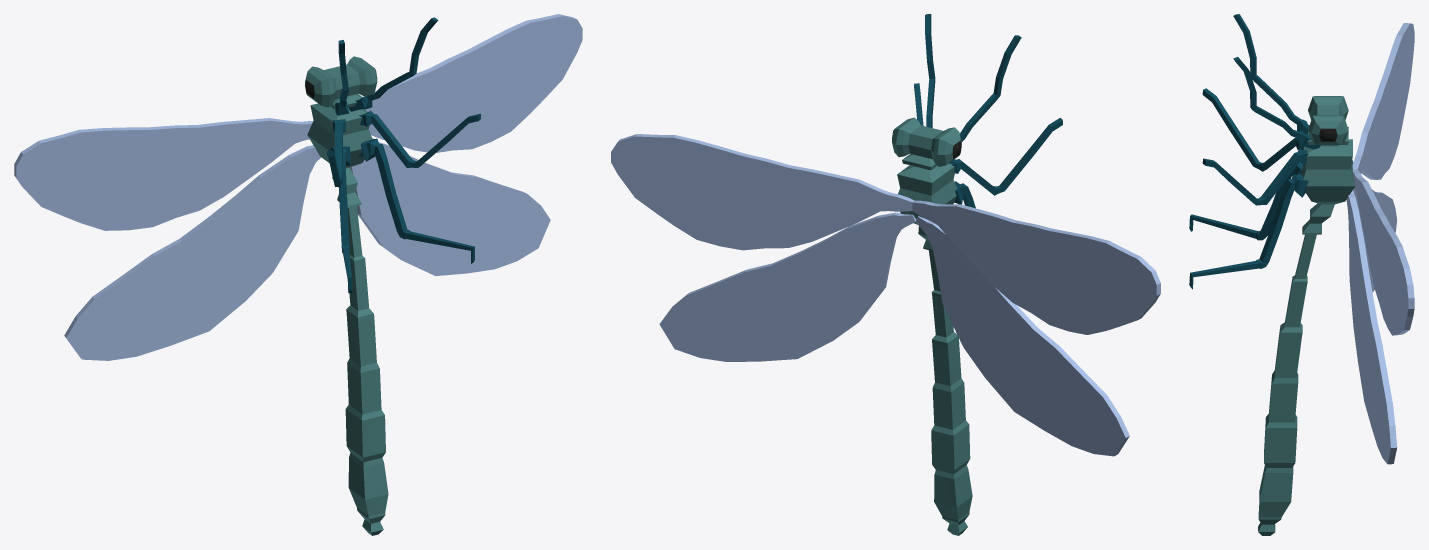
Rendered from Blue_dragonfly.fbx.
The picture shows the model from 3 angles, left to right: view 1: azimuth 30°, elevation 25°; view 2: azimuth 150°, elevation 25°; view 3: azimuth 270°, elevation 25°; orthographic projection. The views are drawn at different scales.
Visible parts, largest first — view 1: Blue_dragonfly; view 2: Blue_dragonfly; view 3: Blue_dragonfly.
Boxes of the visible parts, left/top/right/bottom form: Blue_dragonfly: left=14, top=14, right=582, bottom=535; Blue_dragonfly: left=611, top=14, right=1160, bottom=535; Blue_dragonfly: left=1189, top=14, right=1414, bottom=535.
Bounding box in the file's own units: 54.61 × 47.48 × 19.45.
